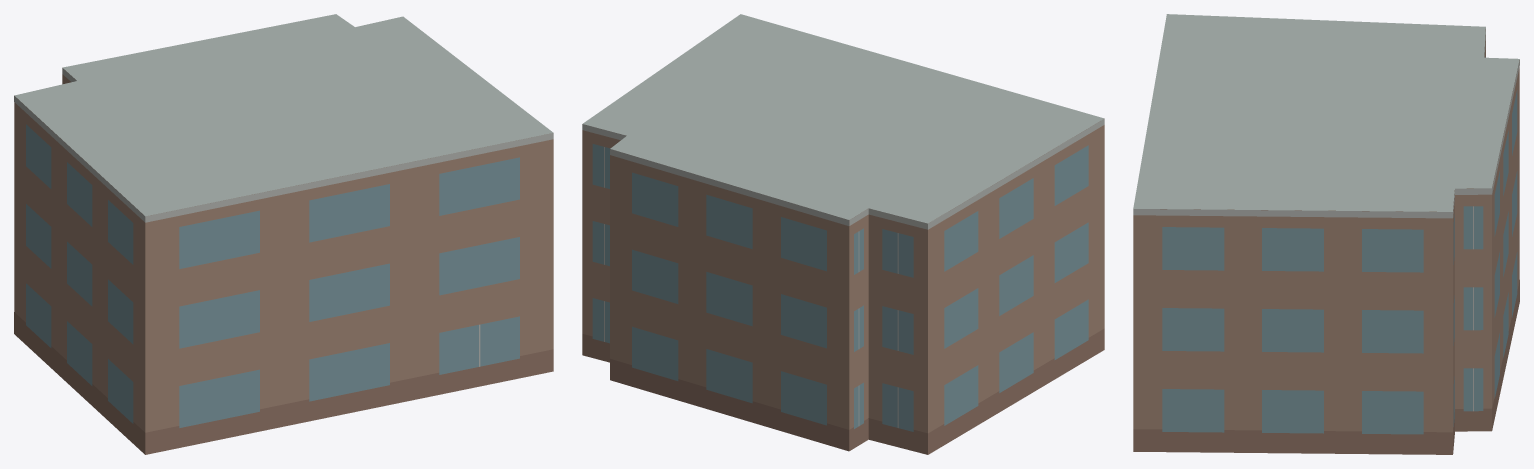
The model's file is survey-upis-32501647.glb.
3 renders of one model, left to right at view 1: azimuth 30°, elevation 25°; view 2: azimuth 150°, elevation 25°; view 3: azimuth 270°, elevation 25°, orthographic. The views are drawn at different scales.
Parts seen in each view (by area): view 1: survey-upis-32501647.tmp; view 2: survey-upis-32501647.tmp; view 3: survey-upis-32501647.tmp.
Part boxes in pixels (x1,y1,x2,y2): survey-upis-32501647.tmp: (14,14,553,454); survey-upis-32501647.tmp: (582,14,1104,454); survey-upis-32501647.tmp: (1133,14,1519,454).
Bounding box in the file's own units: 16 × 9.15 × 13.21.
